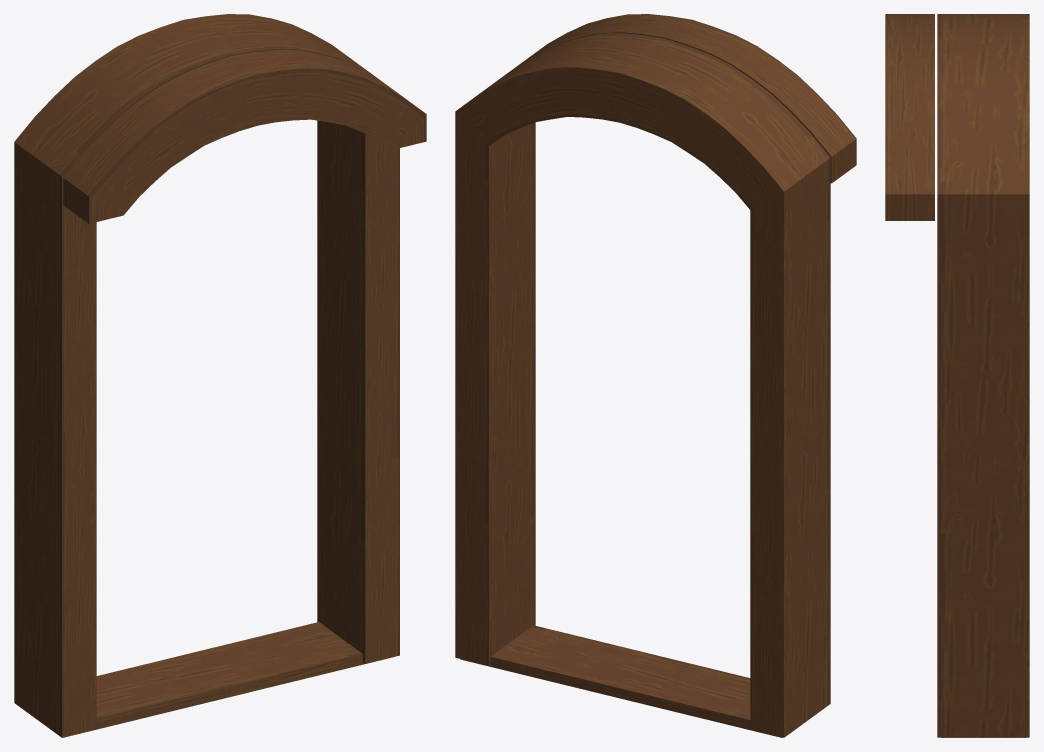
The model's file is DoorFrame_Round_WoodDark.glb.
The picture shows the model from 3 angles, left to right: view 1: azimuth 30°, elevation 25°; view 2: azimuth 150°, elevation 25°; view 3: azimuth 270°, elevation 25°; orthographic projection. The views are drawn at different scales.
Parts seen in each view (by area): view 1: DoorFrame_Round_WoodDark; view 2: DoorFrame_Round_WoodDark; view 3: DoorFrame_Round_WoodDark.
Part boxes in pixels (bbox=[...]): DoorFrame_Round_WoodDark: bbox=[14, 14, 426, 737]; DoorFrame_Round_WoodDark: bbox=[455, 14, 856, 737]; DoorFrame_Round_WoodDark: bbox=[885, 14, 1029, 737].
Bounding box in the file's own units: 1.41 × 2.56 × 0.5389.
1 material, 1 textured.
